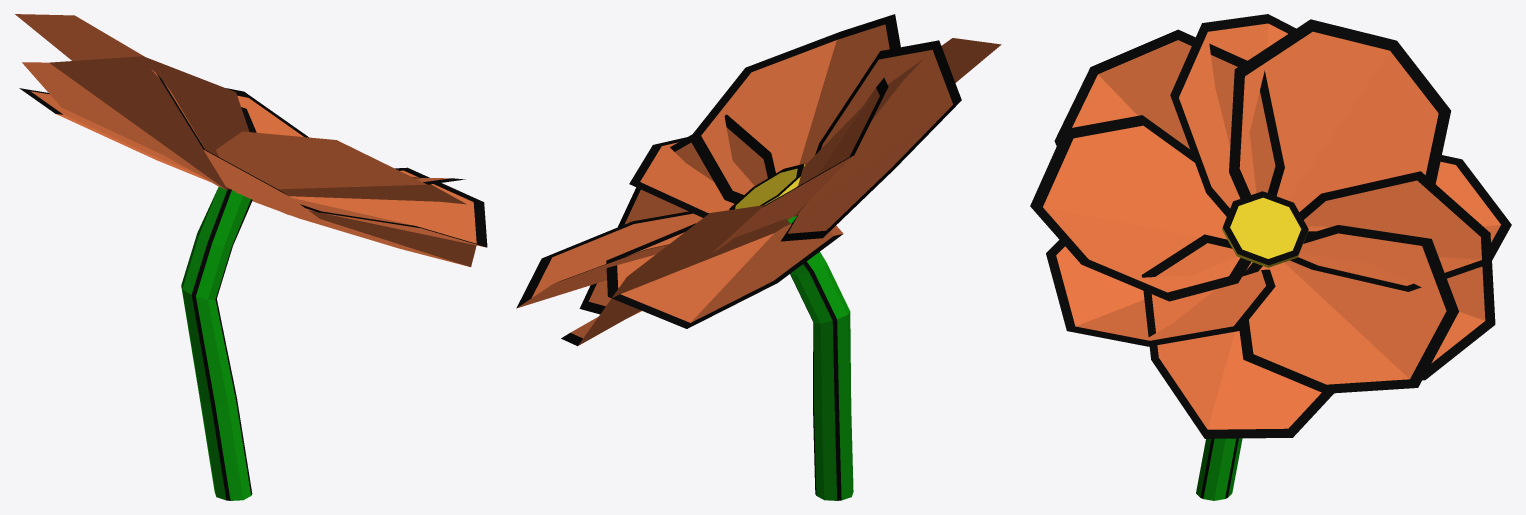
File: CardboardFlower01.fbx
The picture shows the model from 3 angles, left to right: view 1: azimuth 30°, elevation 25°; view 2: azimuth 150°, elevation 25°; view 3: azimuth 270°, elevation 25°; orthographic projection. The views are drawn at different scales.
Visible parts, largest first — view 1: Circle.045; view 2: Circle.045; view 3: Circle.045.
Boxes of the visible parts, x1,y1,x2,y2 form: Circle.045: (15,14,487,500); Circle.045: (516,14,1001,500); Circle.045: (1030,14,1511,500).
Bounding box in the file's own units: 143 × 164 × 168.
